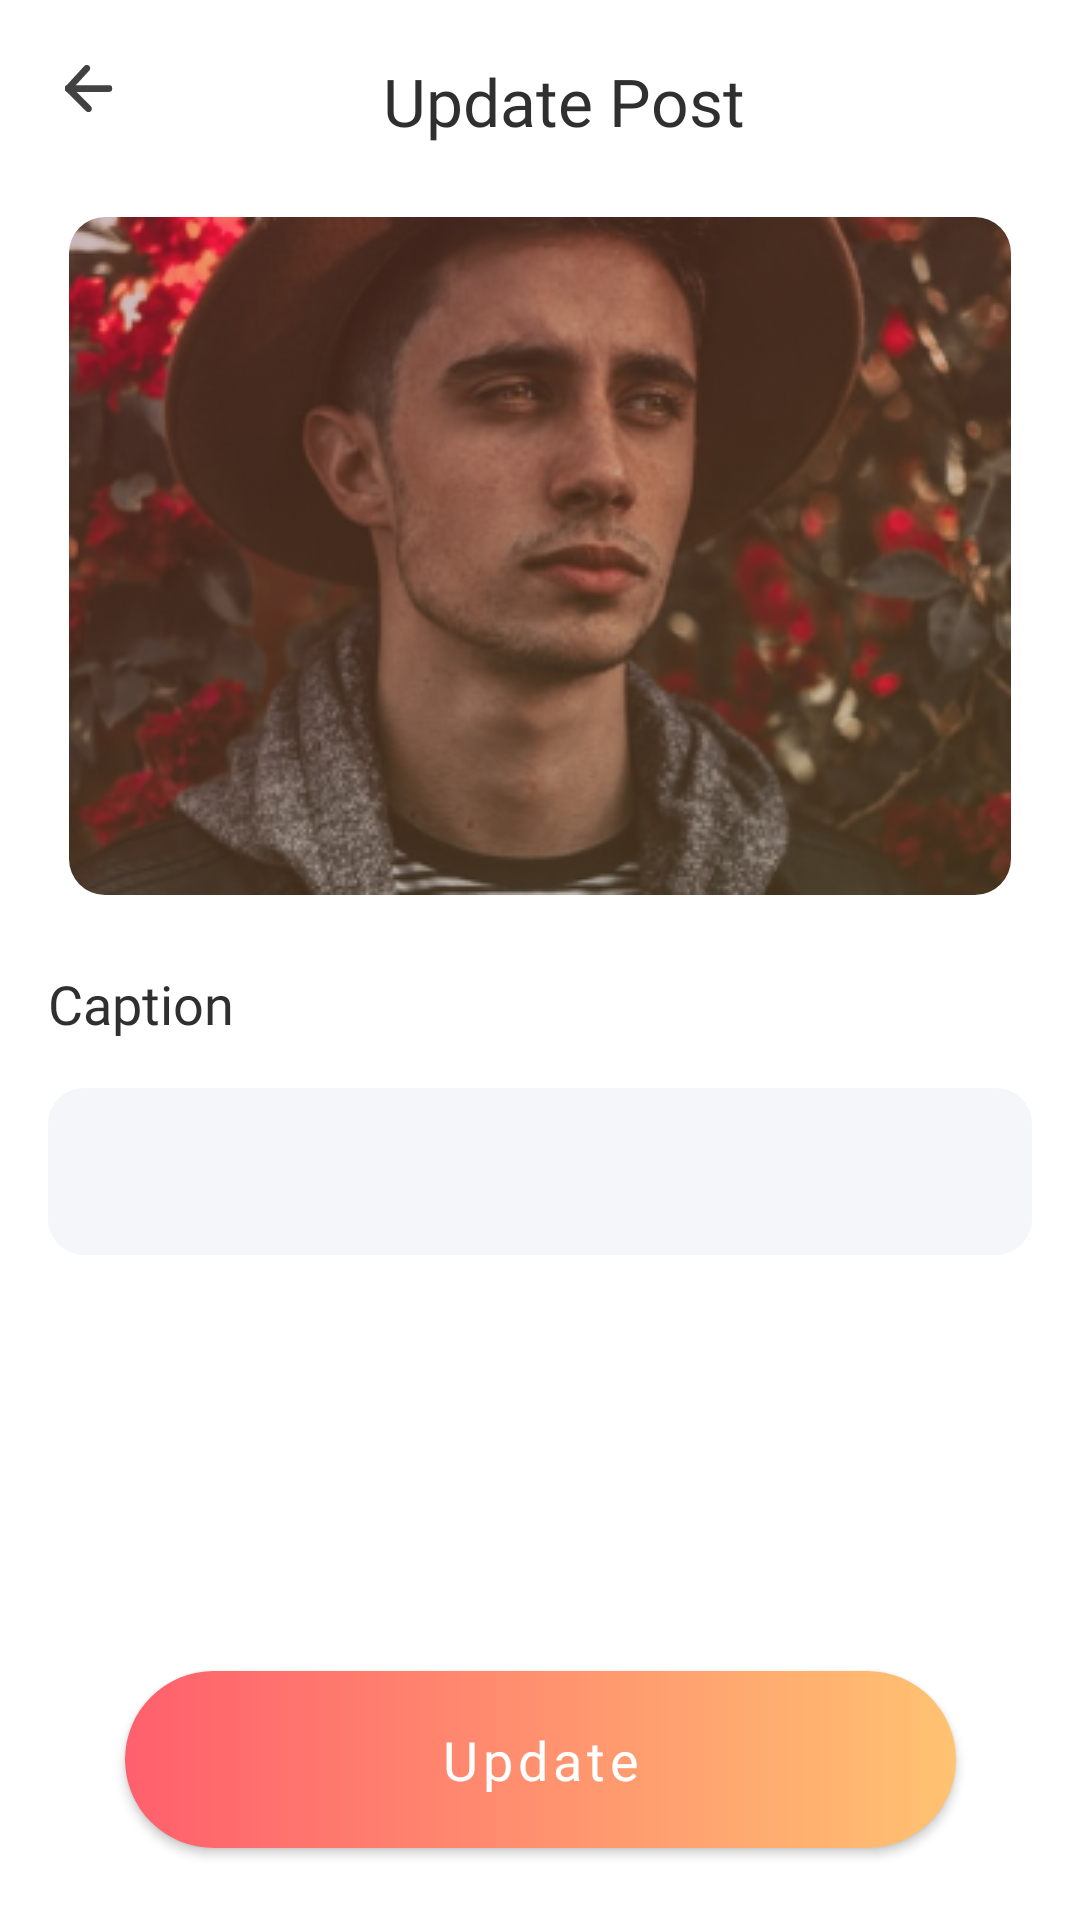

Screen size 1080x1920. Icon name, then its box in pixels as detection(x1, y1, x2, y2):
Icon of back button: detection(65, 65, 113, 112)
